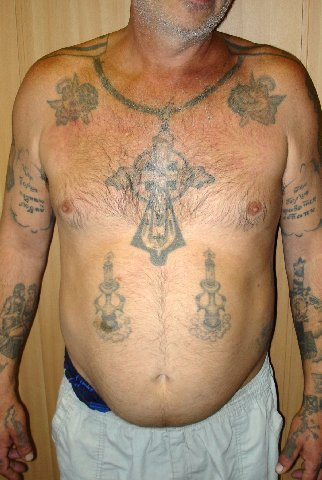tatu1_angel: (44, 69, 107, 130), (229, 65, 287, 130)
tatu9_krest: (110, 128, 211, 265)
